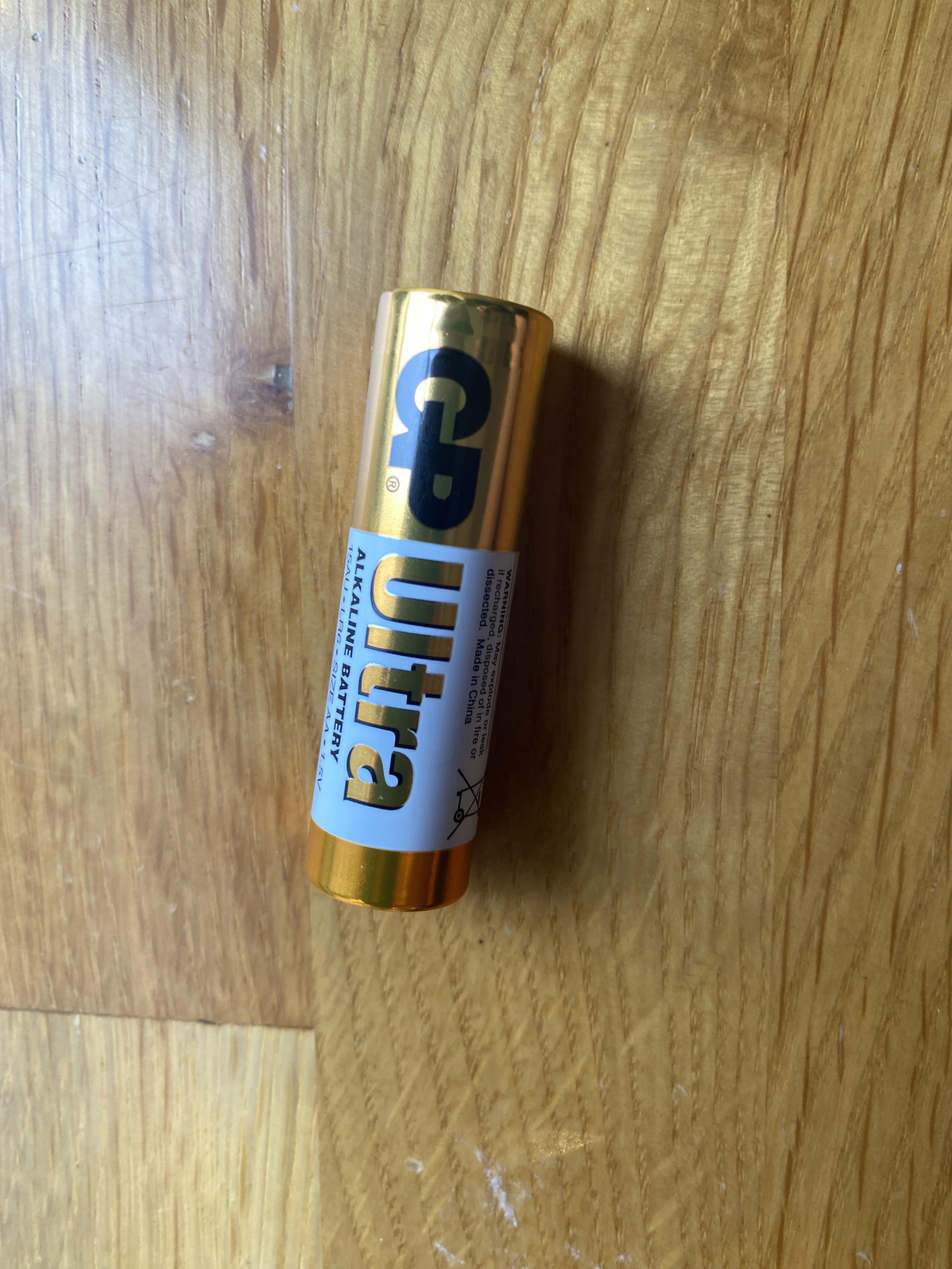AA: (303, 285, 554, 912)
